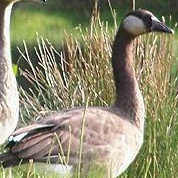goose: (4, 6, 177, 176)
